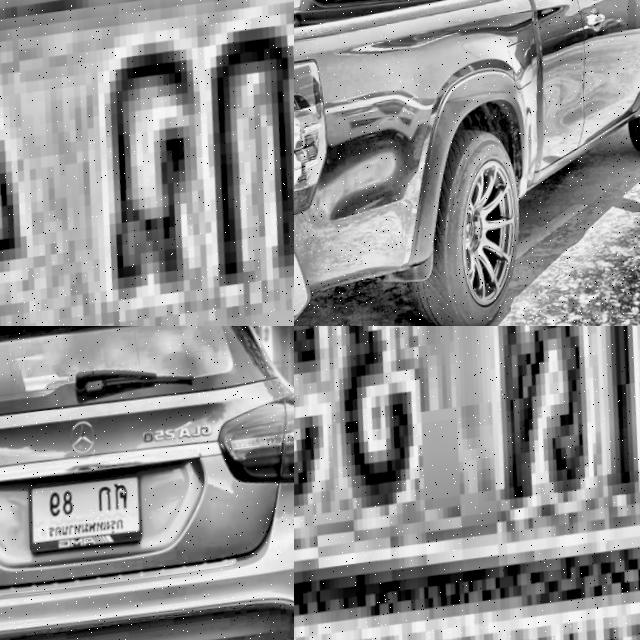license-plate: (294, 326, 640, 640), (0, 0, 294, 326), (25, 466, 156, 560)
